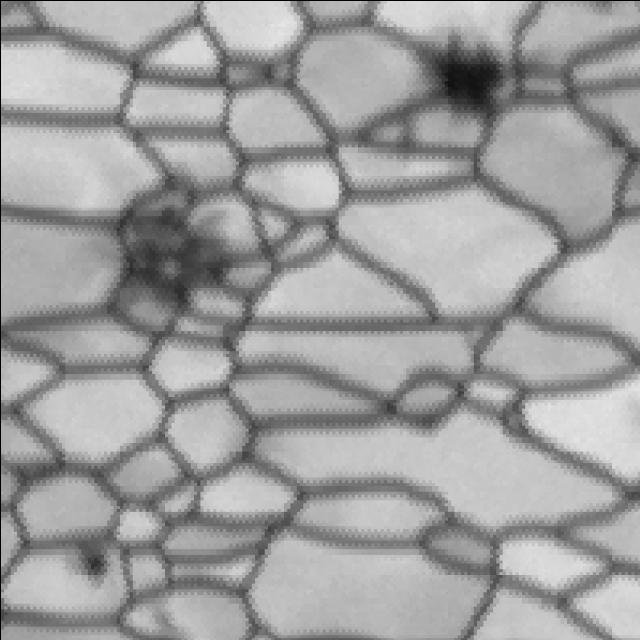good_void: (95, 165, 249, 326), (412, 21, 522, 137), (73, 545, 118, 596)
